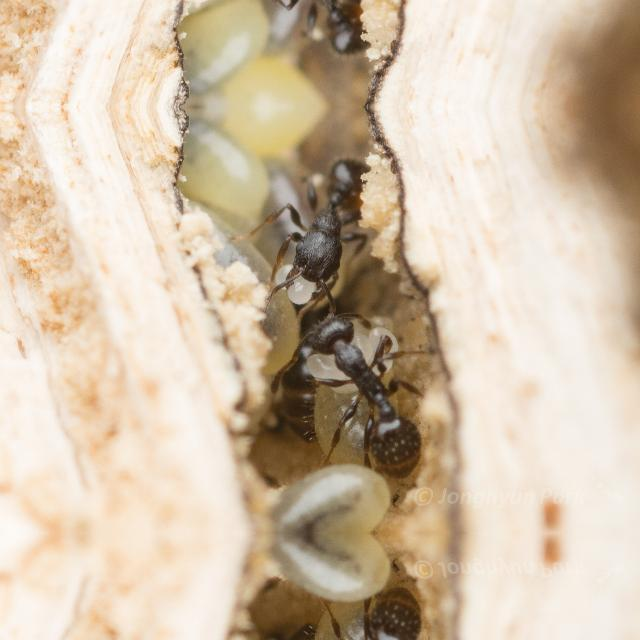Temnothorax: (293, 294, 437, 481), (260, 137, 388, 301), (259, 0, 386, 74), (293, 584, 437, 640)
